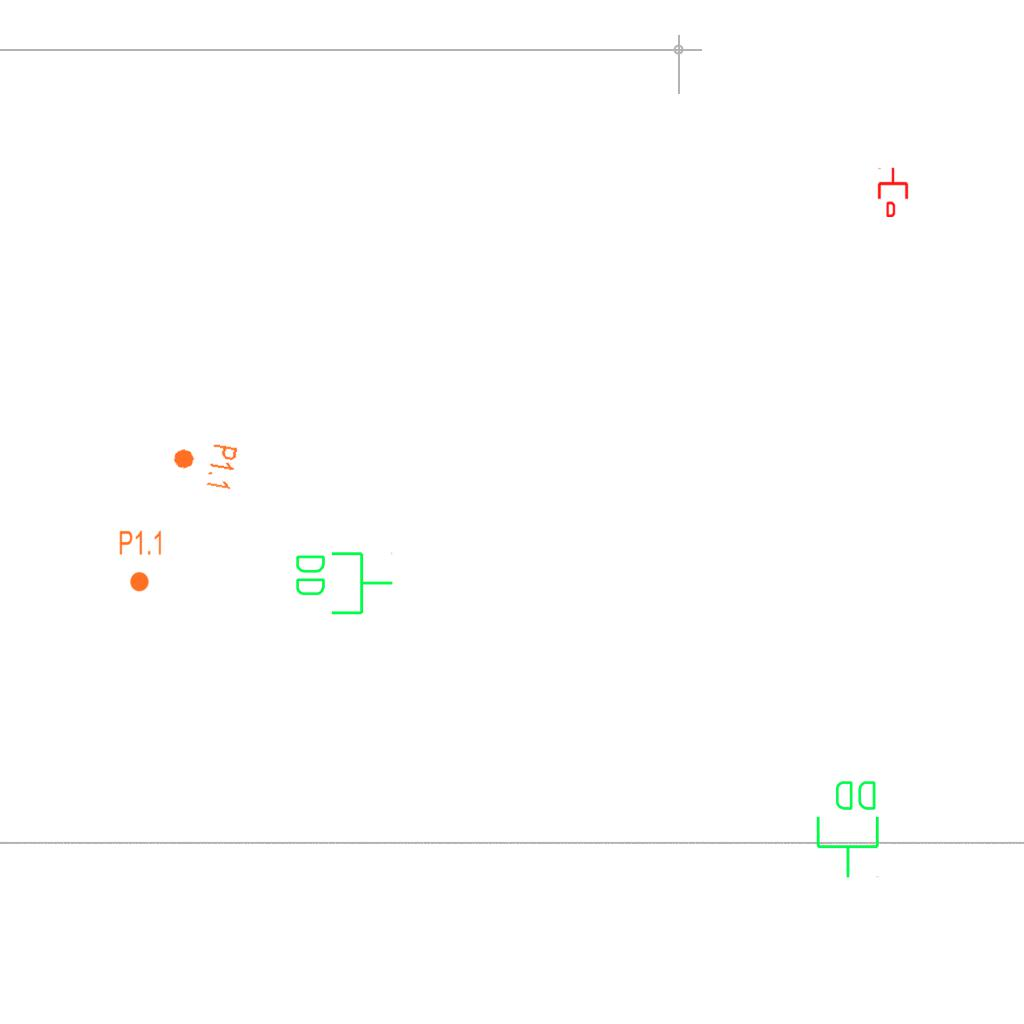Datenanschluss_einfach: (876, 167, 910, 217)
Datenanschluss_zweifach: (814, 777, 883, 880), (292, 548, 395, 617)
Downlight_LED_Einbauleuchten_Flur_2: (168, 435, 240, 493), (118, 529, 164, 593)
